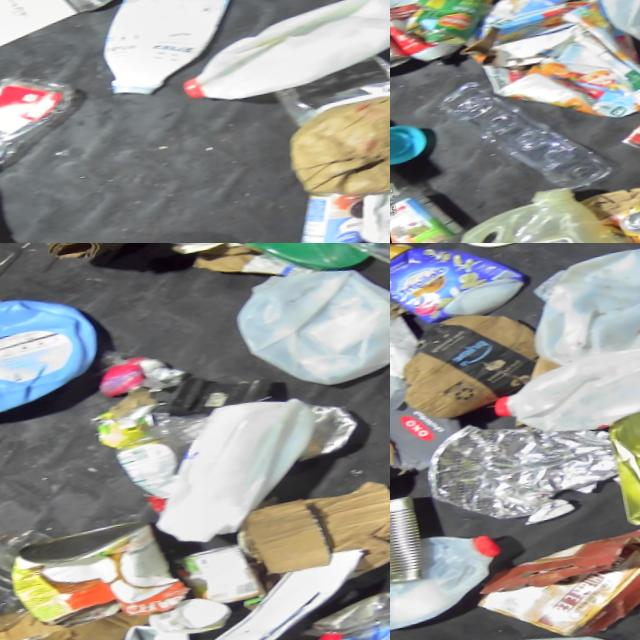can: (0, 516, 183, 636), (168, 543, 260, 616), (394, 0, 502, 55), (283, 402, 361, 469), (283, 188, 368, 243), (390, 496, 425, 593), (35, 0, 153, 22), (597, 204, 640, 243), (390, 6, 409, 76)
milk_jug: (129, 393, 332, 556), (221, 255, 390, 407), (166, 0, 390, 114), (480, 334, 640, 450), (87, 0, 249, 105), (513, 243, 640, 376), (390, 525, 504, 638), (431, 182, 620, 243), (440, 616, 632, 640)
non_white_jug: (449, 0, 640, 147), (0, 284, 106, 428), (390, 243, 531, 341)
plastic_bottle: (0, 64, 83, 179), (0, 521, 63, 640)
